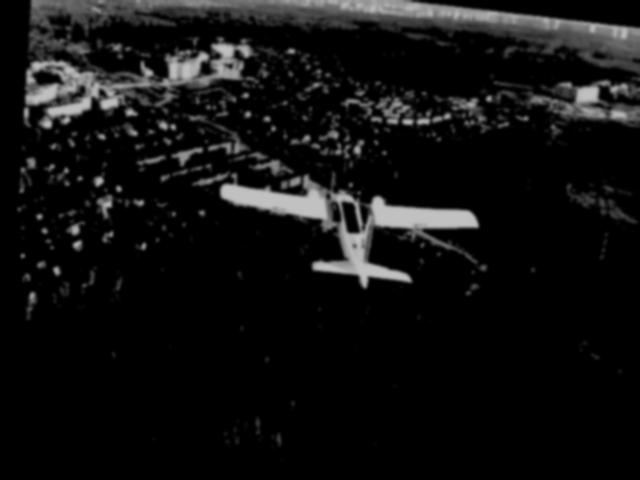hedef: (197, 160, 496, 314)
